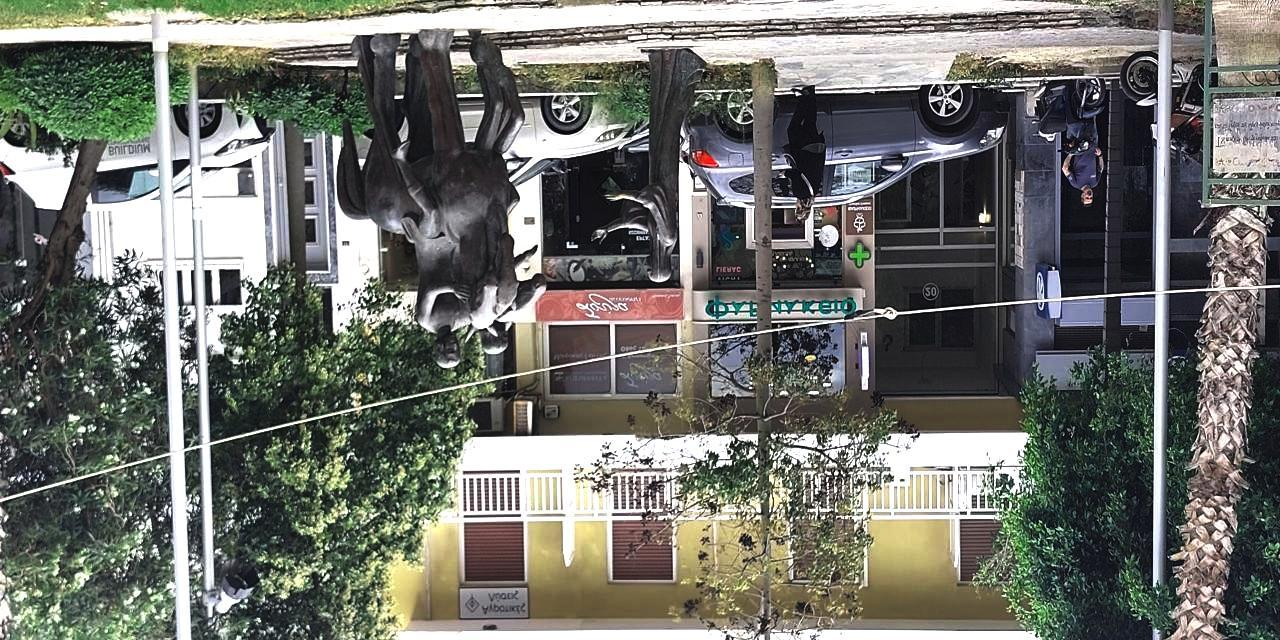Aretousa: (337, 28, 708, 372)
